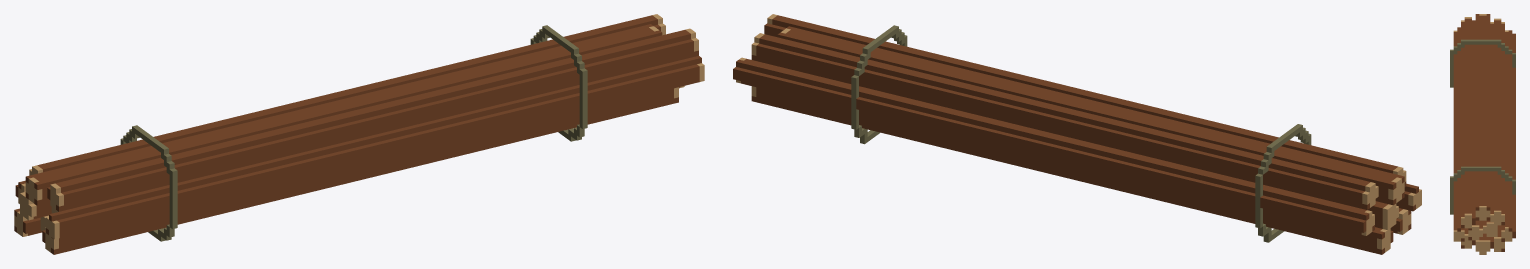
The model's file is bundle_branch.glb.
The picture shows the model from 3 angles, left to right: view 1: azimuth 30°, elevation 25°; view 2: azimuth 150°, elevation 25°; view 3: azimuth 270°, elevation 25°; orthographic projection. The views are drawn at different scales.
Parts seen in each view (by area): view 1: bundle_branch:compound; view 2: bundle_branch:compound; view 3: bundle_branch:compound.
Part boxes in pixels (x1,y1,x2,y2): bundle_branch:compound: (14, 14, 704, 254); bundle_branch:compound: (733, 14, 1421, 254); bundle_branch:compound: (1450, 14, 1515, 254).
Size of the model in its own units: 1.3 by 0.18 by 0.18.
